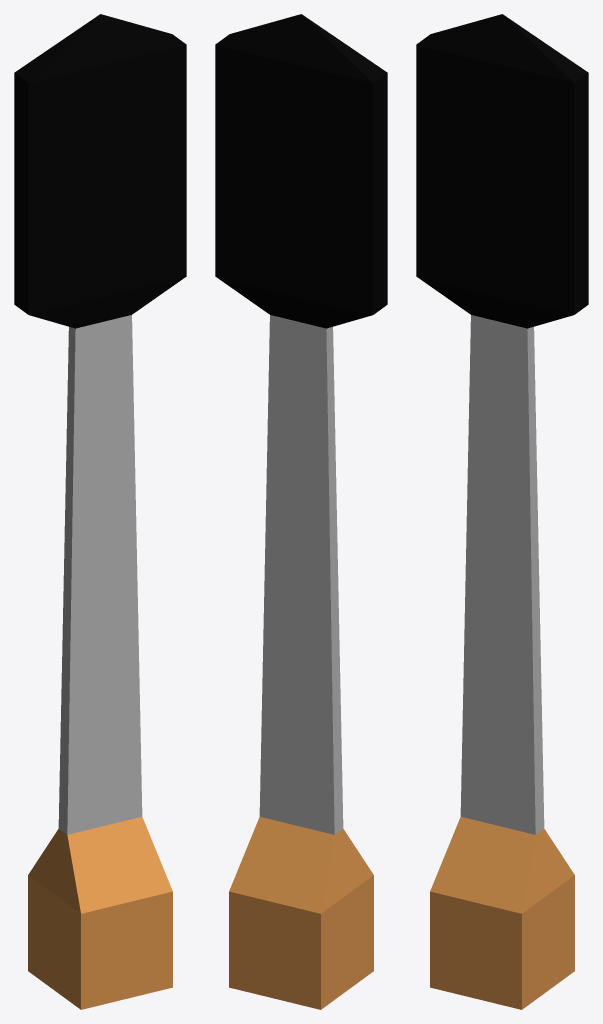
Rendered from Shovel.fbx.
3 views of the same model, side by side, from view 1: azimuth 30°, elevation 25°; view 2: azimuth 150°, elevation 25°; view 3: azimuth 330°, elevation 25° (orthographic).
Parts seen in each view (by area): view 1: Cube; view 2: Cube; view 3: Cube.
Boxes of the visible parts, bbox=[...] form: Cube: bbox=[14, 14, 186, 1009]; Cube: bbox=[215, 14, 387, 1009]; Cube: bbox=[416, 14, 588, 1009].
Size of the model in its own units: 0.431 by 0.2504 by 2.52.
